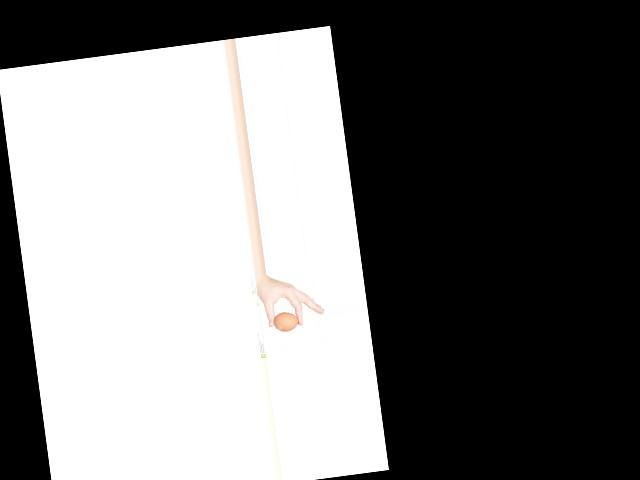egg: (271, 310, 299, 333)
